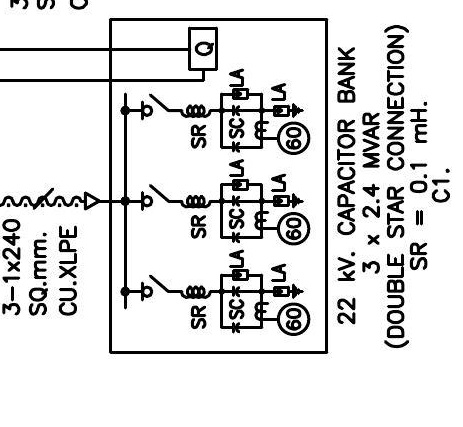22_cap_bank: (108, 17, 329, 355)
Q: (188, 26, 219, 72)
terminator_single: (83, 190, 101, 211)
